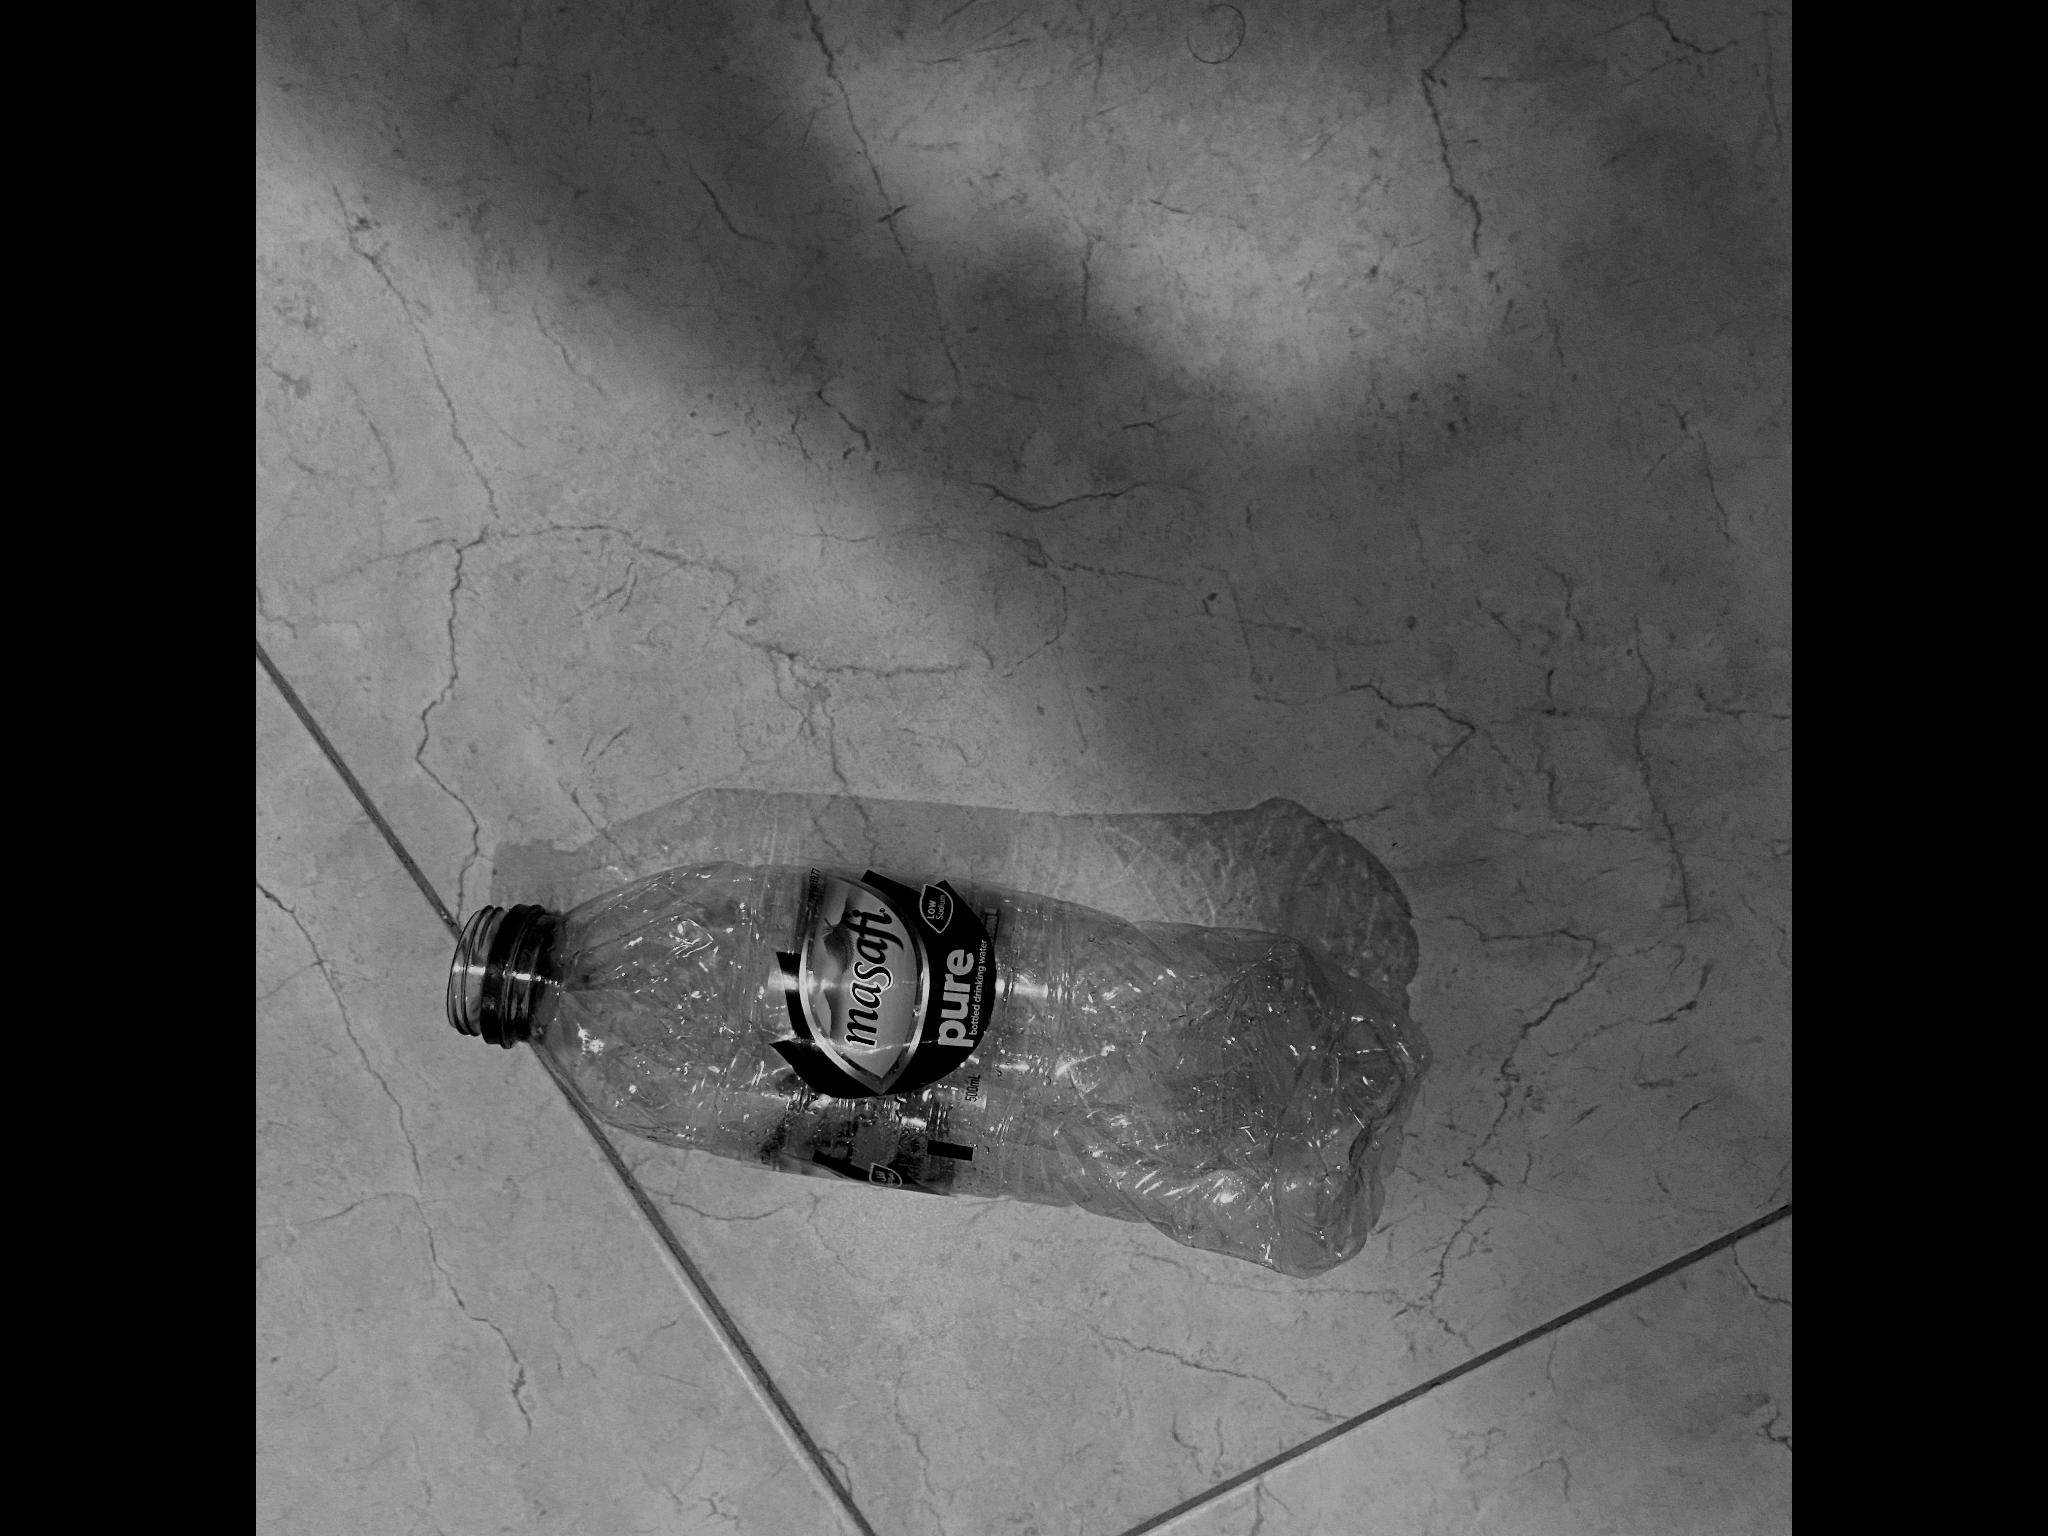bottle: (421, 857, 1434, 1291)
